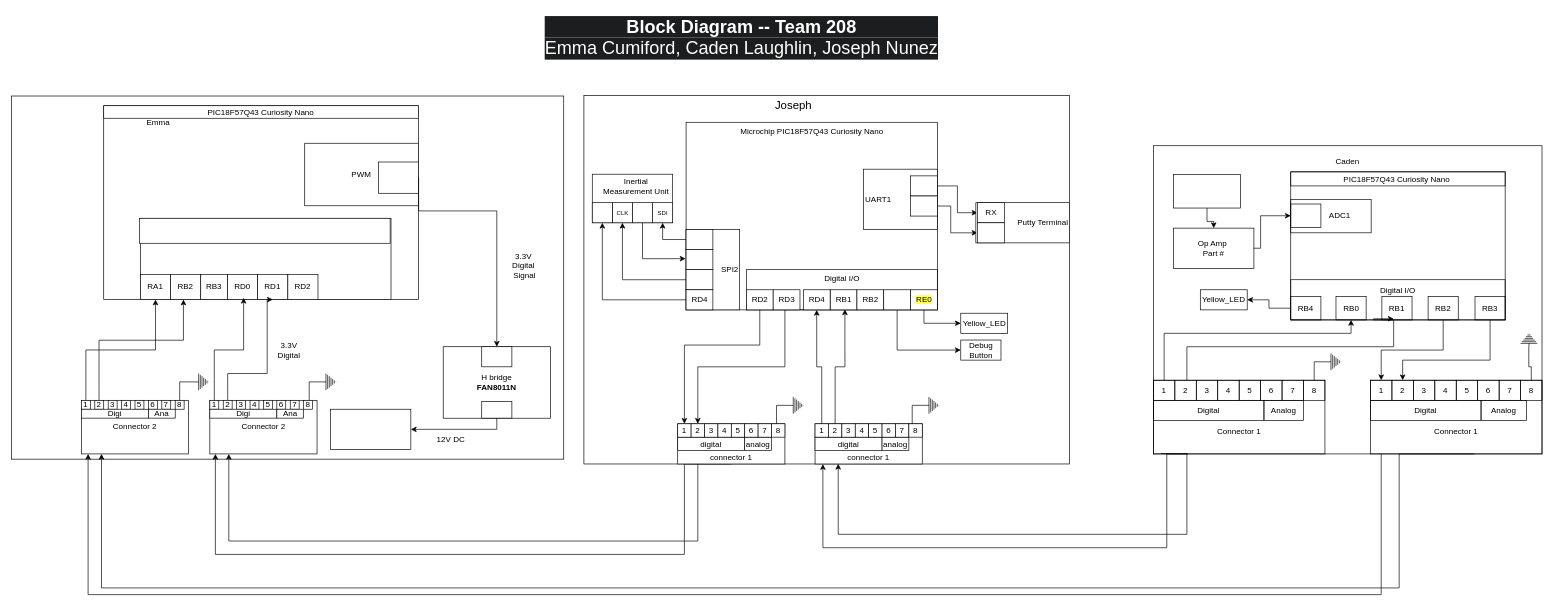
Image size: 1554x612. Some labels were removed from this diagram. The centre of each missing label's shape, as x and y in pixels:
Digi IO: the point at 264,230
Distance Sensor Manufacturing #: the point at 1207,191
IN1: the point at 496,356
Motor VEVOR OK648: the point at 370,429
RA0: the point at 1305,215
RA2: the point at 398,177
RC2: the point at 923,185
RC3: the point at 923,205
RC4: the point at 699,239
RC5: the point at 699,259
RC6: the point at 699,279
RF4: the point at 897,299
SDA: the point at 642,212
SS: the point at 602,212
TX: the point at 990,232
